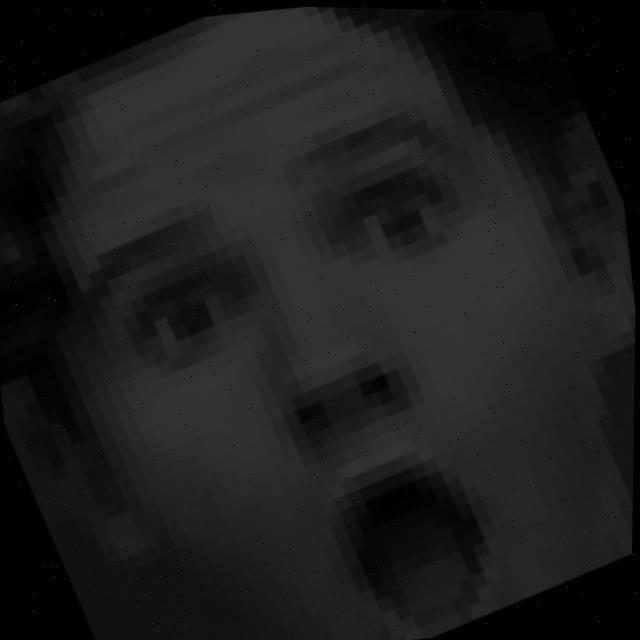Surprised: (96, 113, 561, 640)
